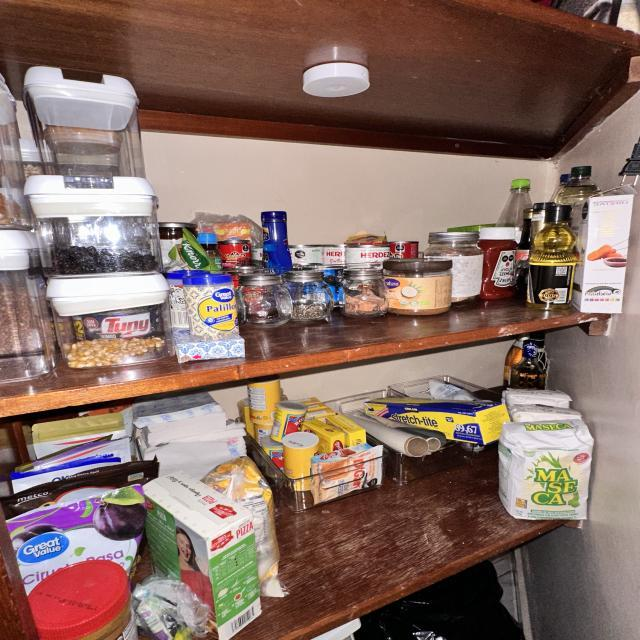hidden camera: (325, 275, 334, 282)
